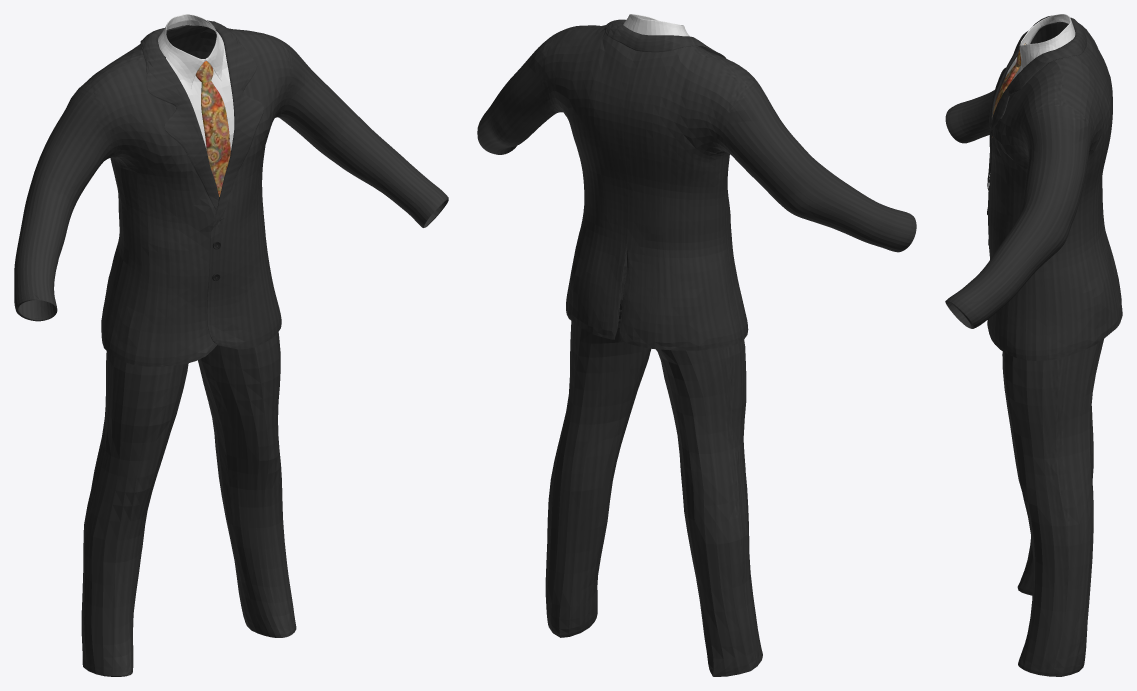
Rendered from mhw_toigo_male_suit_tie_and_jacket.glb.
3 views of the same model, side by side, from view 1: azimuth 30°, elevation 25°; view 2: azimuth 150°, elevation 25°; view 3: azimuth 270°, elevation 25° (orthographic). The views are drawn at different scales.
Parts seen in each view (by area): view 1: mhw_toigo_male_suit_tie_and_jacket; view 2: mhw_toigo_male_suit_tie_and_jacket; view 3: mhw_toigo_male_suit_tie_and_jacket.
Boxes of the visible parts, <box> form: mhw_toigo_male_suit_tie_and_jacket: <box>14,14,448,676</box>; mhw_toigo_male_suit_tie_and_jacket: <box>477,14,916,676</box>; mhw_toigo_male_suit_tie_and_jacket: <box>945,14,1122,676</box>.
Size of the model in its own units: 1.14 by 1.58 by 0.416.
1 material, 1 textured.
